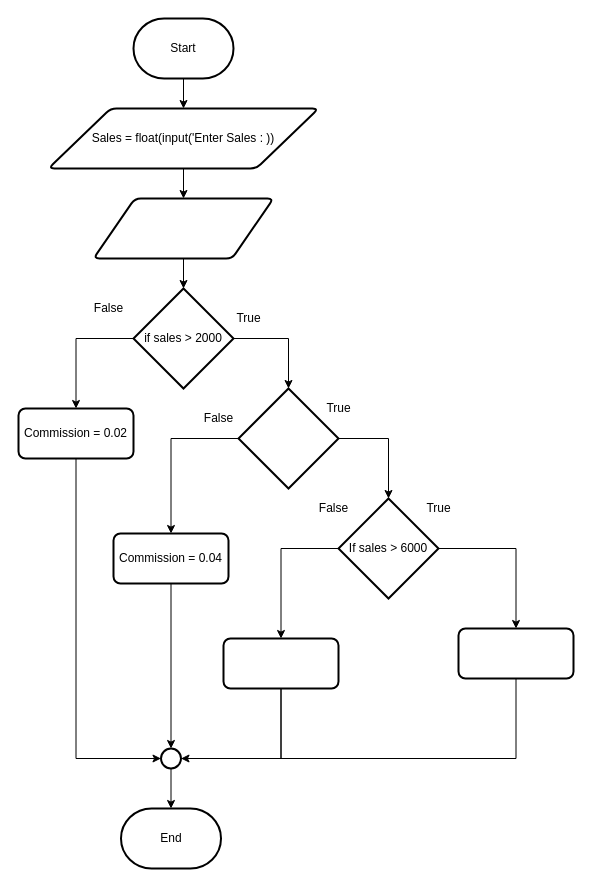
This 591x886 diagram has some shape labels left out. Each missing label, with the box of its shape:
Commission = 0.06: (222, 637, 339, 689)
Commission = 0.1: (457, 627, 574, 679)
Commission =0: (92, 197, 274, 259)
If sales > 4000: (237, 387, 339, 489)
